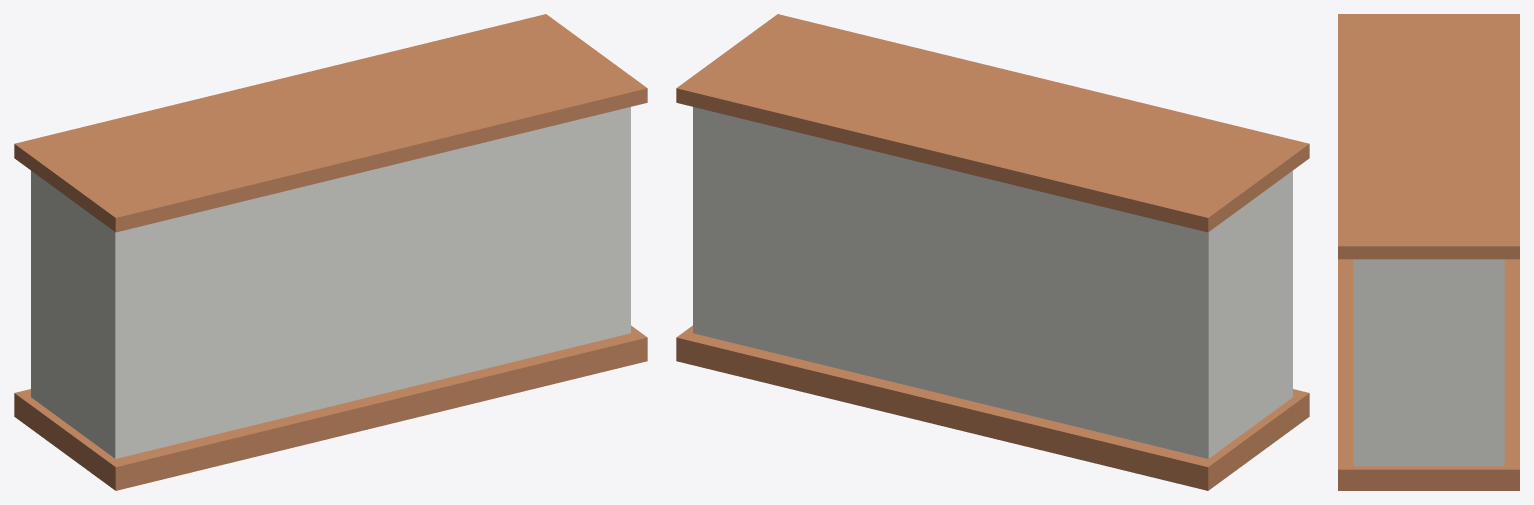
The model's file is Kitchen_Table_2.fbx.
The picture shows the model from 3 angles, left to right: view 1: azimuth 30°, elevation 25°; view 2: azimuth 150°, elevation 25°; view 3: azimuth 270°, elevation 25°; orthographic projection. The views are drawn at different scales.
Parts seen in each view (by area): view 1: polySurface1789; view 2: polySurface1789; view 3: polySurface1789.
Boxes of the visible parts, left/top/right/bottom form: polySurface1789: left=14, top=14, right=647, bottom=490; polySurface1789: left=676, top=14, right=1309, bottom=490; polySurface1789: left=1338, top=14, right=1519, bottom=490.
Size of the model in its own units: 2.3 by 1.13 by 0.76.
1 material, 1 textured.
